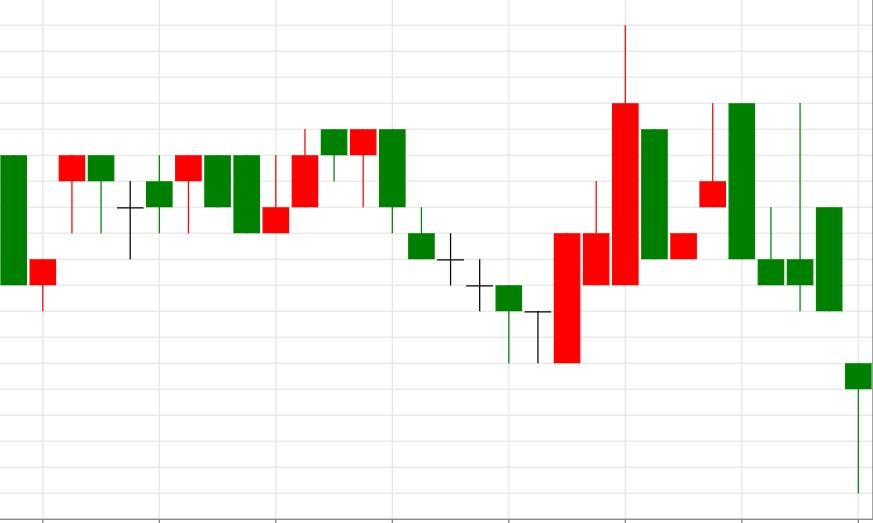bearish_engulfing_fall: (553, 26, 756, 364), (233, 129, 406, 232)
hanging_man_fall: (233, 129, 377, 232)
inverse_hammer_rise: (174, 154, 290, 234)
